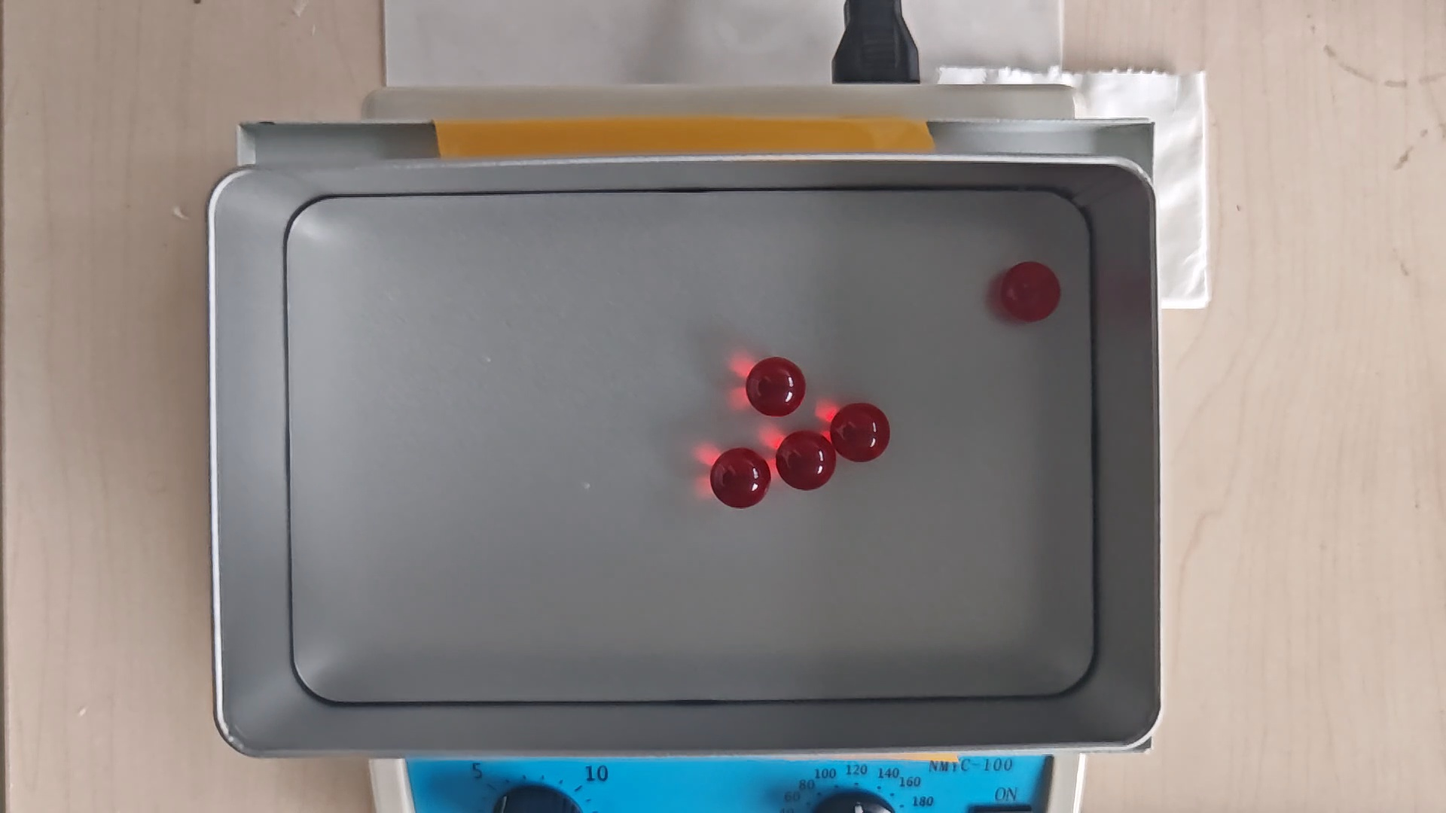ball: (999, 261, 1060, 322), (710, 448, 770, 510), (746, 356, 806, 417), (778, 429, 836, 491), (832, 403, 889, 463)
container: (288, 189, 1094, 702)
